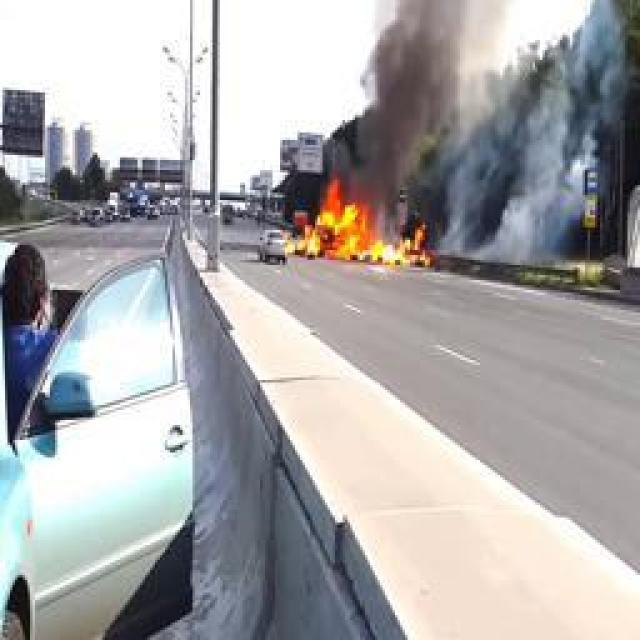Fire: (288, 178, 434, 268)
